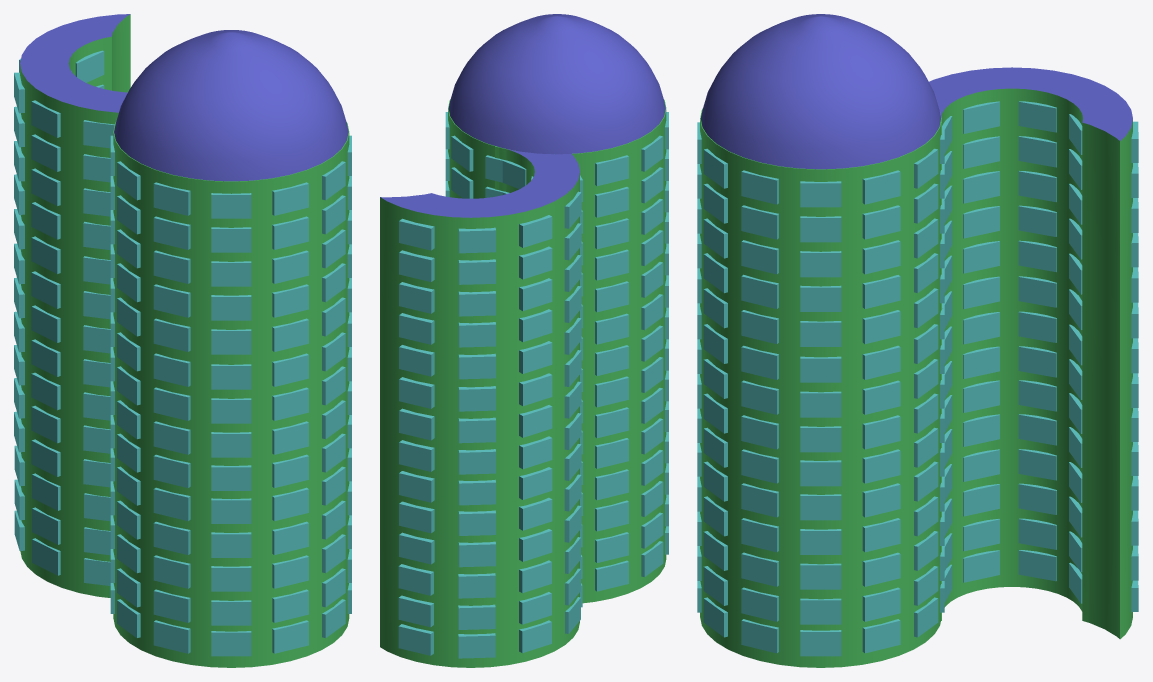
File: hochhaus_Mat.fbx
The picture shows the model from 3 angles, left to right: view 1: azimuth 30°, elevation 25°; view 2: azimuth 150°, elevation 25°; view 3: azimuth 270°, elevation 25°; orthographic projection. The views are drawn at different scales.
Visible parts, largest first — view 1: Kugel; view 2: Kugel; view 3: Kugel.
Boxes of the visible parts, x1,y1,x2,y2 form: Kugel: [14, 14, 351, 667]; Kugel: [380, 14, 668, 667]; Kugel: [697, 14, 1138, 667].
Size of the model in its own units: 381 by 1010 by 673.
